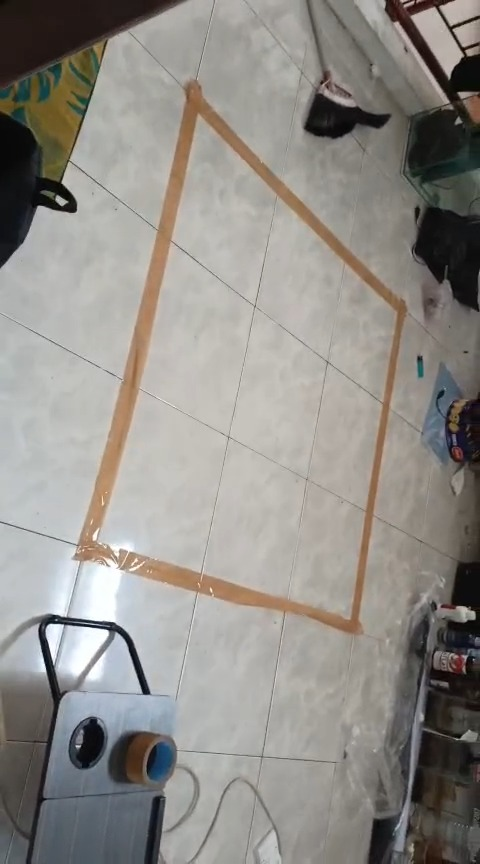floor marking: (75, 80, 405, 633)
